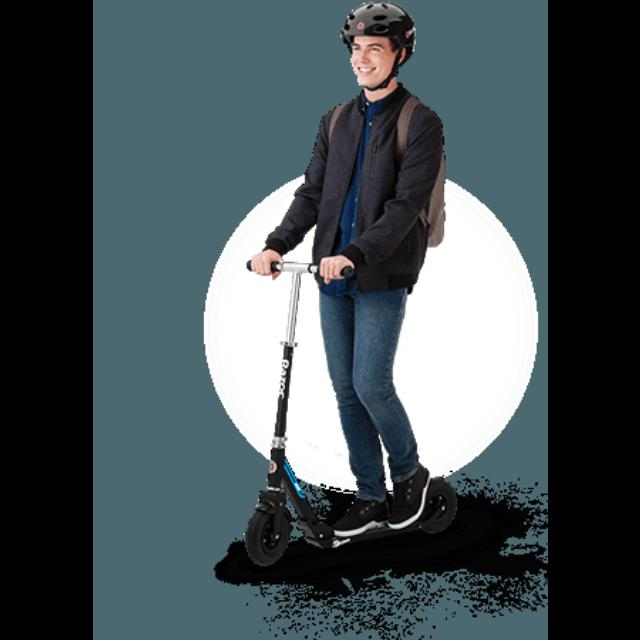With Helmet: (328, 0, 412, 80)
